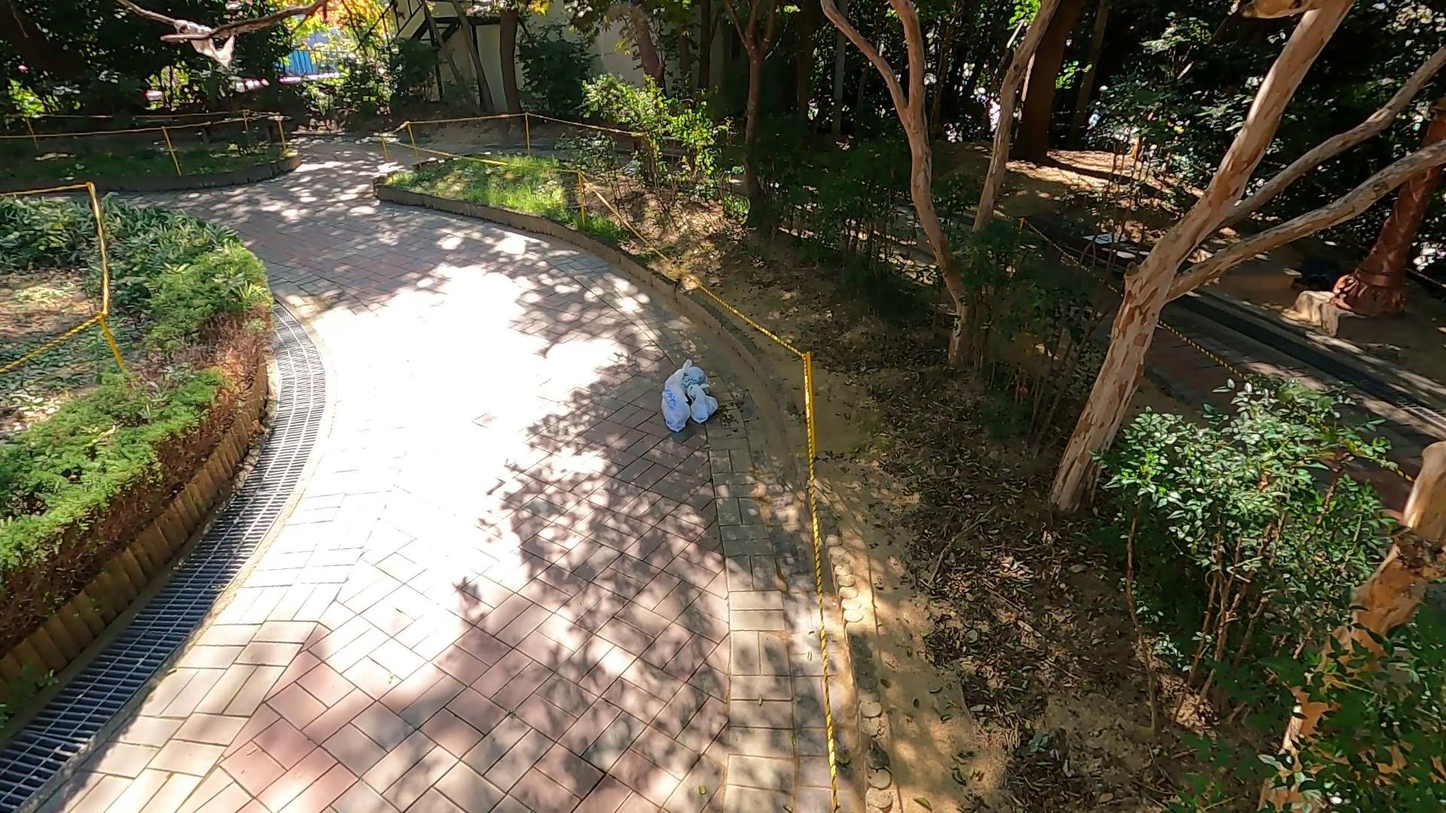trash: (662, 357, 713, 396), (658, 384, 692, 433), (688, 384, 722, 427)
